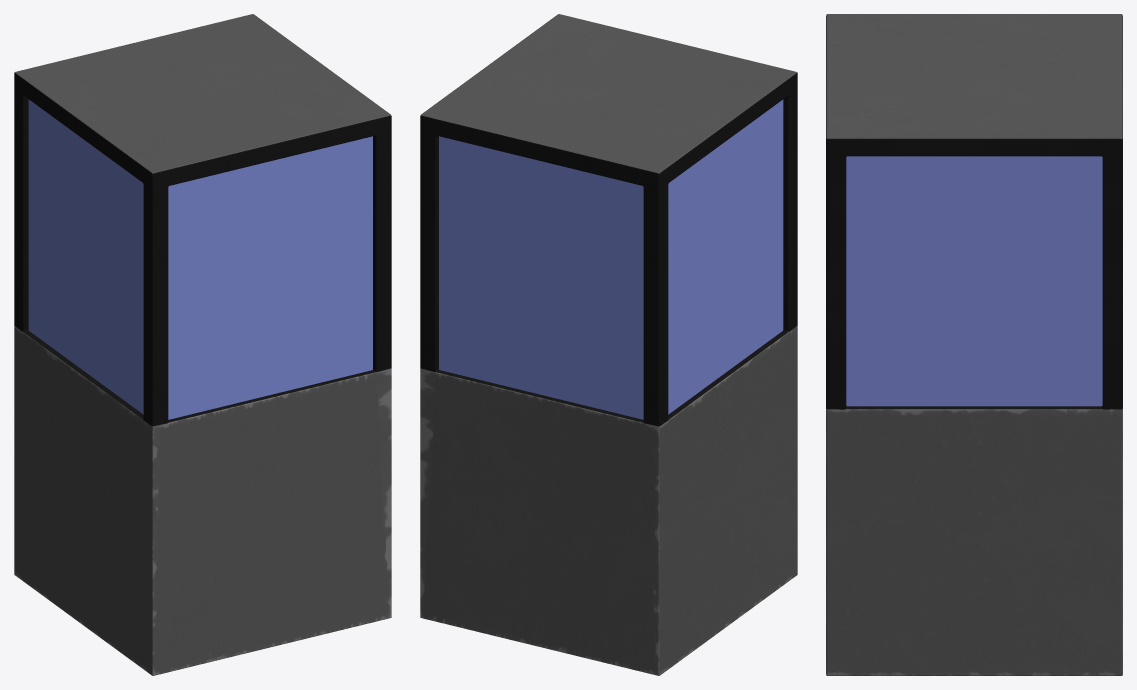
The model's file is small_case.fbx.
3 views of the same model, side by side, from view 1: azimuth 30°, elevation 25°; view 2: azimuth 150°, elevation 25°; view 3: azimuth 270°, elevation 25° (orthographic). The views are drawn at different scales.
Parts seen in each view (by area): view 1: small_case_frame, small_case_window; view 2: small_case_frame; view 3: small_case_frame.
Boxes of the visible parts, x1,y1,x2,y2 form: small_case_frame: (14, 14, 391, 675); small_case_window: (168, 136, 372, 419); small_case_frame: (420, 14, 797, 675); small_case_frame: (826, 14, 1122, 675).
Bounding box in the file's own units: 0.9943 × 1.99 × 0.9973.
